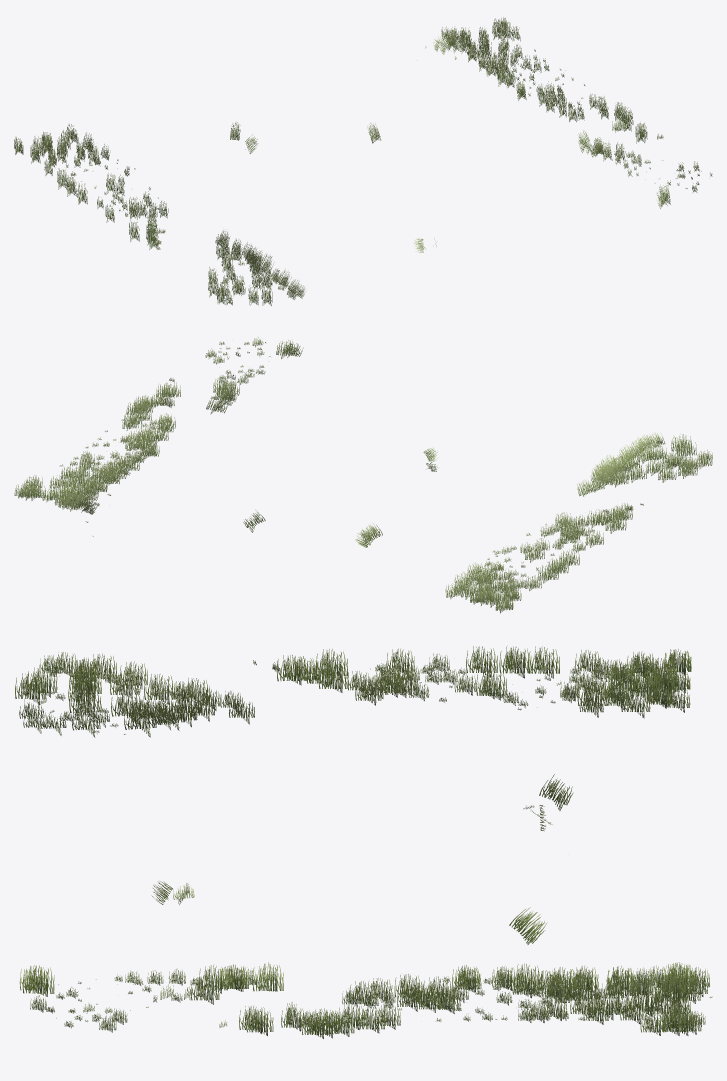
File: LV2_grass.fbx
The picture shows the model from 3 angles, top to bottom: view 1: azimuth 30°, elevation 25°; view 2: azimuth 150°, elevation 25°; view 3: azimuth 270°, elevation 25°; orthographic projection. The views are drawn at different scales.
Visible parts, largest first — view 1: grass_2_0.415; view 2: grass_2_0.415; view 3: grass_2_0.415.
Part boxes in pixels (x1,y1,x2,y2): grass_2_0.415: (14, 17, 712, 305); grass_2_0.415: (14, 337, 712, 613); grass_2_0.415: (15, 646, 712, 1038).
Bounding box in the file's own units: 3835 × 737 × 3042.
